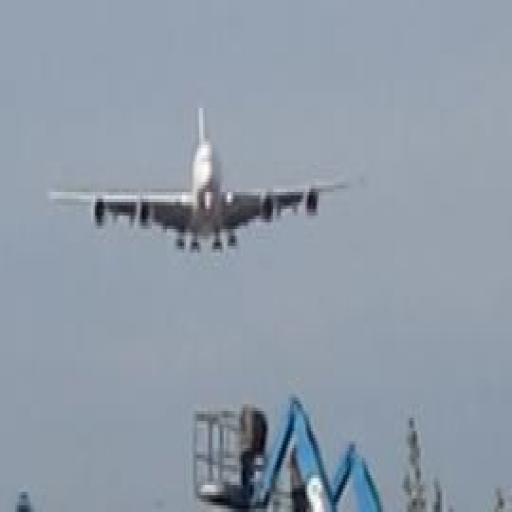aircraft: (49, 104, 347, 256)
